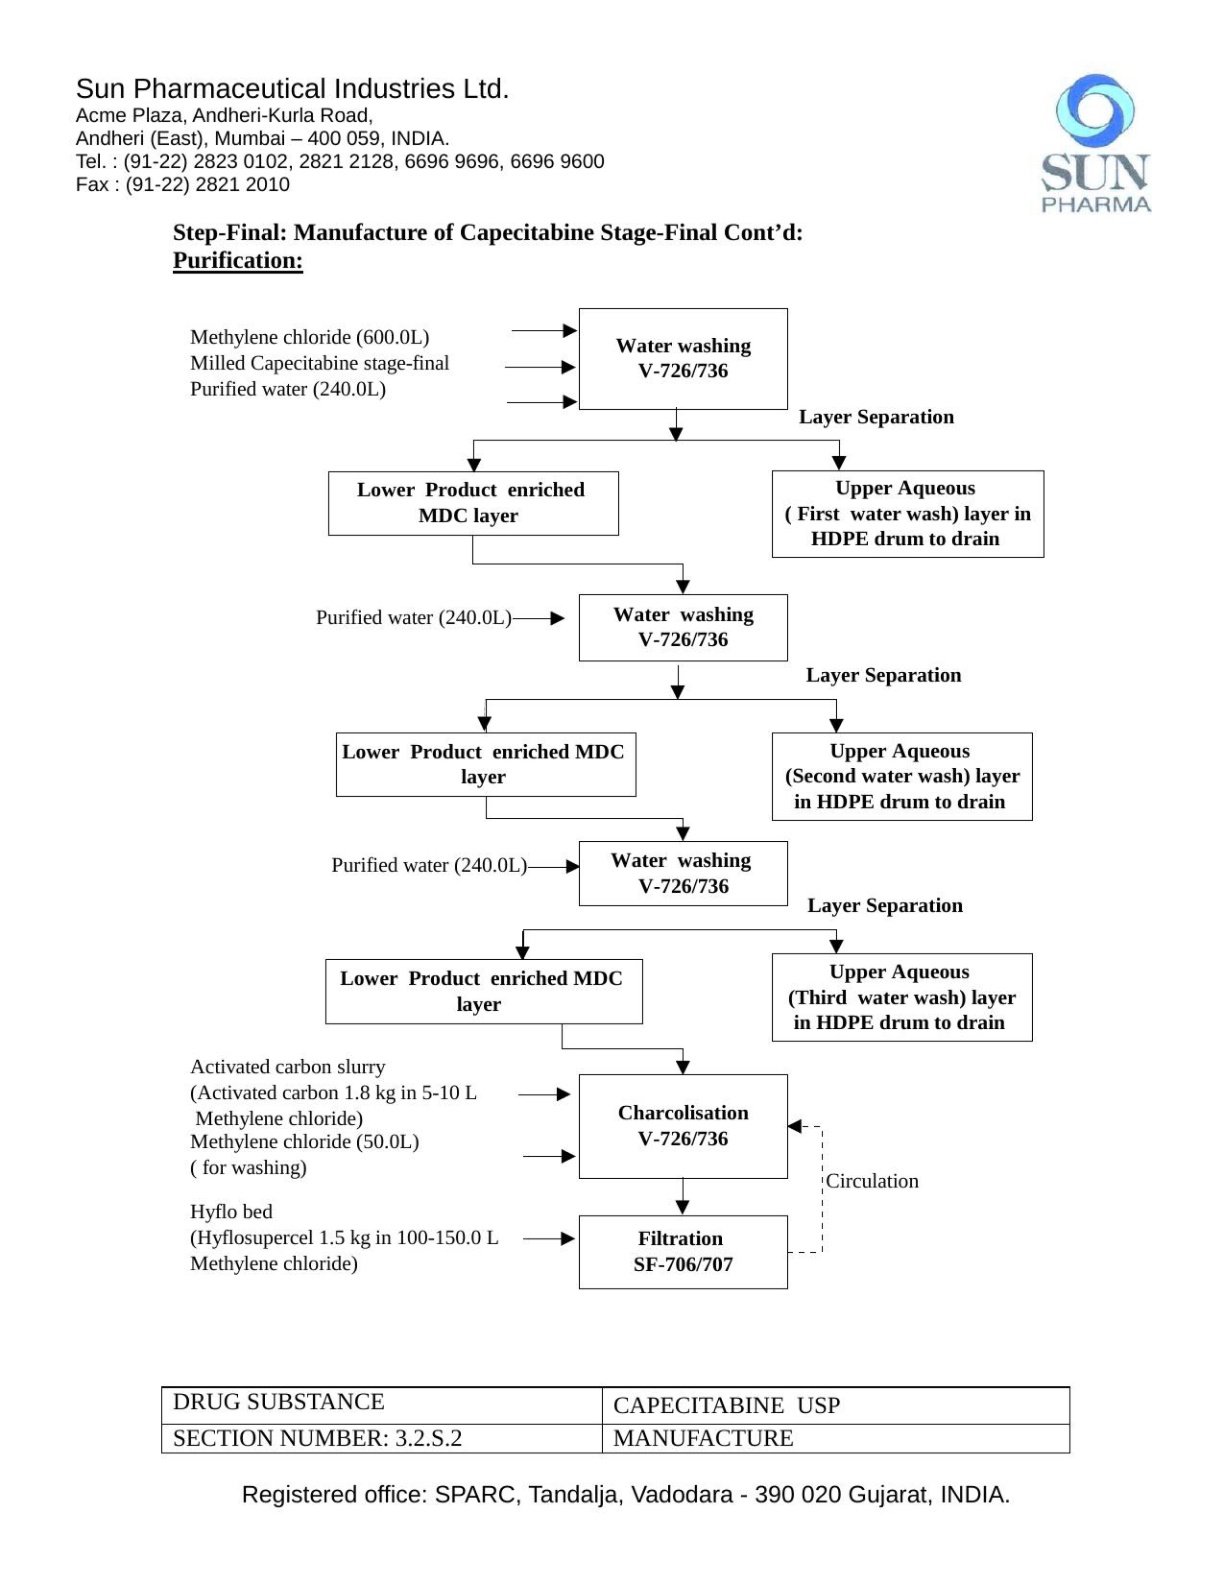full_lined: (159, 1384, 1072, 1455)
